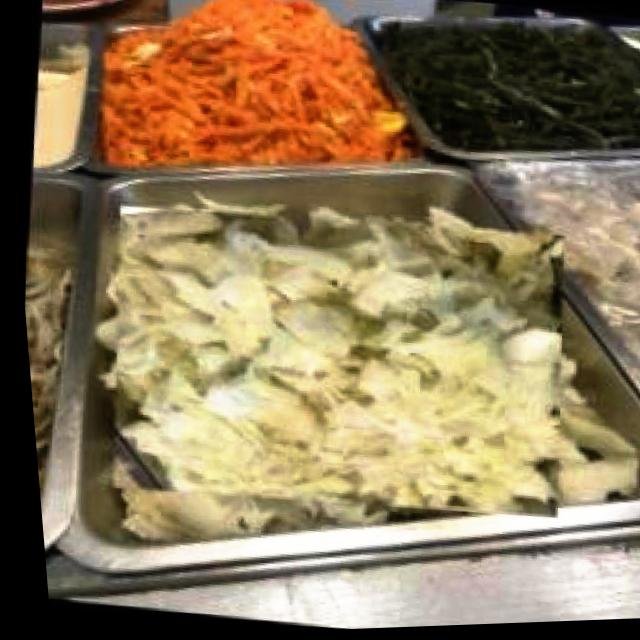chinese_cabbage: (56, 162, 640, 592)
fried_chicken: (70, 0, 455, 203)
mung_bean_sprouts: (20, 242, 78, 500)
water_spinach: (409, 0, 640, 161)
